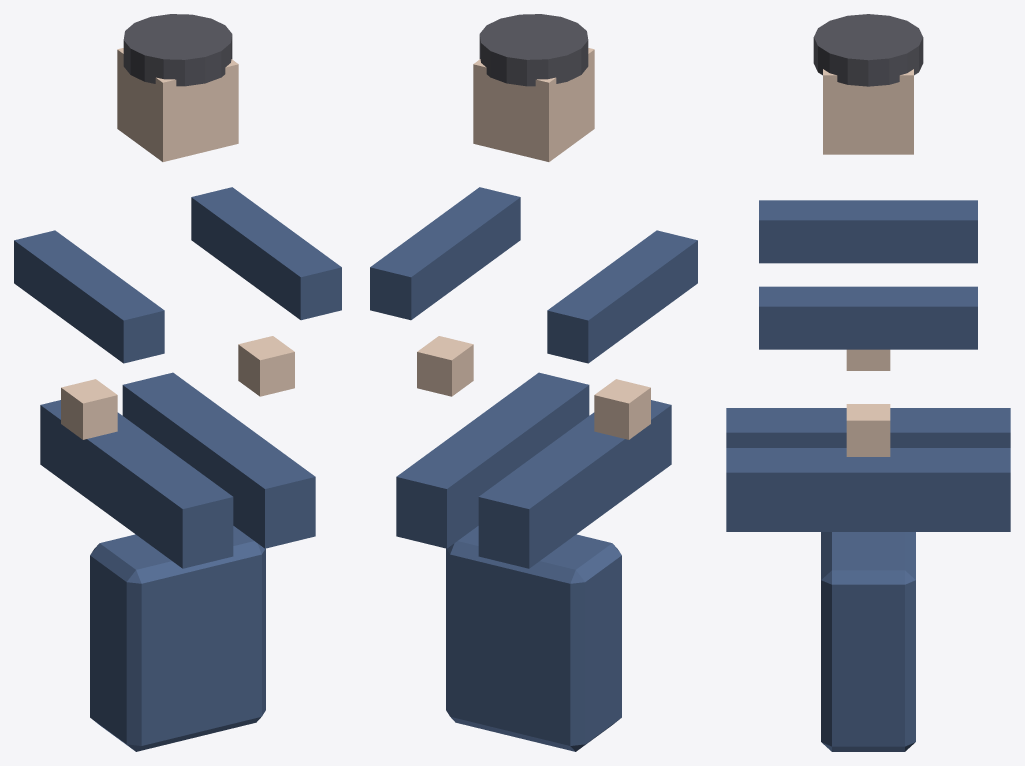
The model's file is ped_medic.glb.
3 views of the same model, side by side, from view 1: azimuth 30°, elevation 25°; view 2: azimuth 150°, elevation 25°; view 3: azimuth 270°, elevation 25° (orthographic).
Visible parts, largest first — view 1: Torso, LegL, Head, LegR, ArmL, ArmR; view 2: Torso, LegL, Head, LegR, ArmL, ArmR; view 3: LegR, Torso, ArmR, ArmL, Head, LegL.
Boxes of the visible parts, x1,y1,x2,y2 form: Torso: (90,526,265,751); LegL: (40,400,233,568); Head: (117,14,238,161); LegR: (122,372,315,548); ArmL: (14,230,164,439); ArmR: (191,187,341,396); Torso: (446,526,621,751); LegL: (478,400,671,568); Head: (473,14,594,161); LegR: (396,372,589,548); ArmL: (547,230,697,439); ArmR: (370,187,520,396); LegR: (726,448,1010,531); Torso: (821,532,915,751); ArmR: (759,286,977,456); ArmL: (759,200,977,370); Head: (813,14,923,154); LegL: (726,408,1010,447).
Size of the model in its own units: 0.69 by 2.07 by 0.78.
